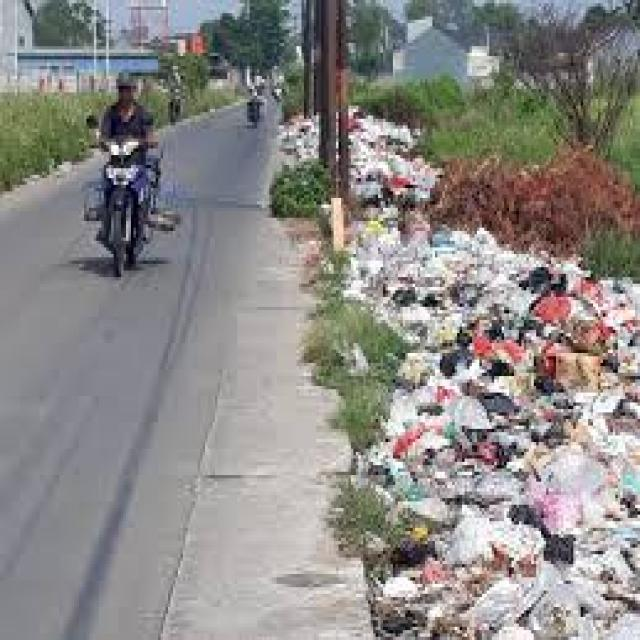trash: (360, 218, 640, 638)
